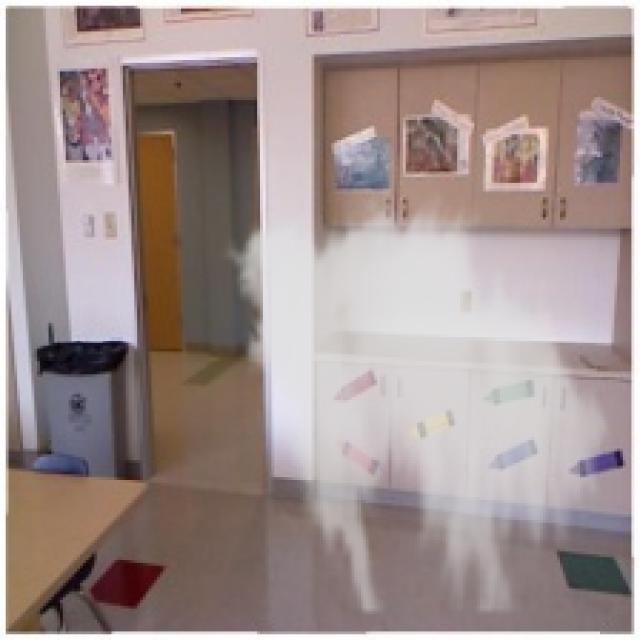Smoke: (217, 188, 620, 614)
